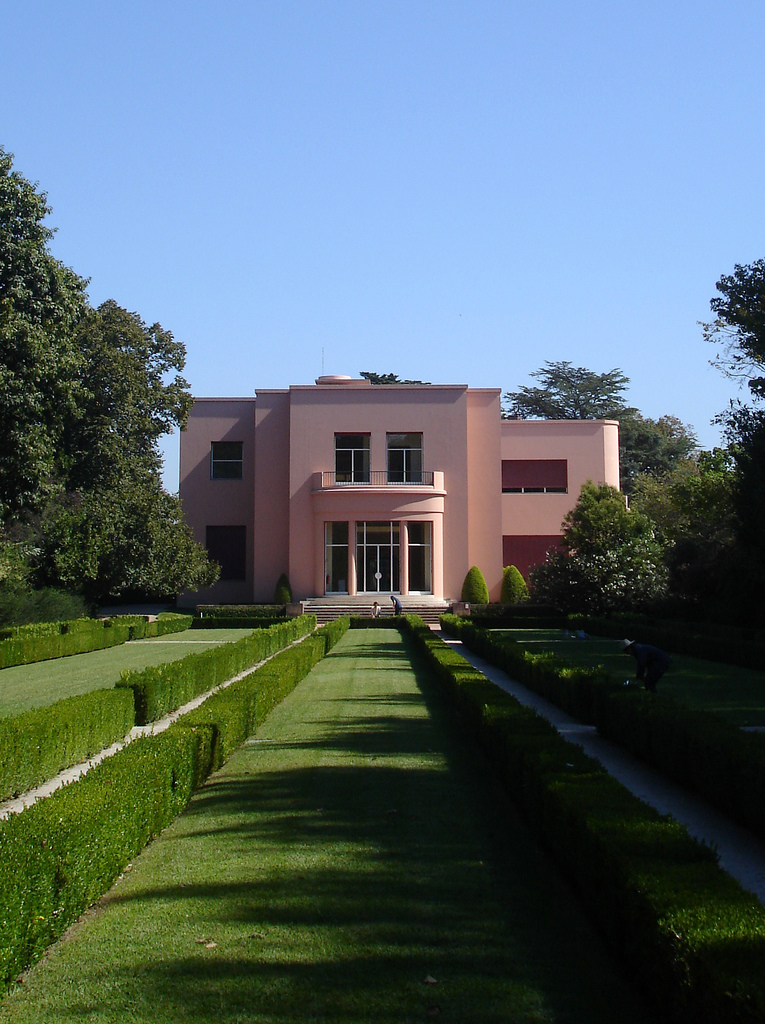serralves: (179, 375, 623, 608)
